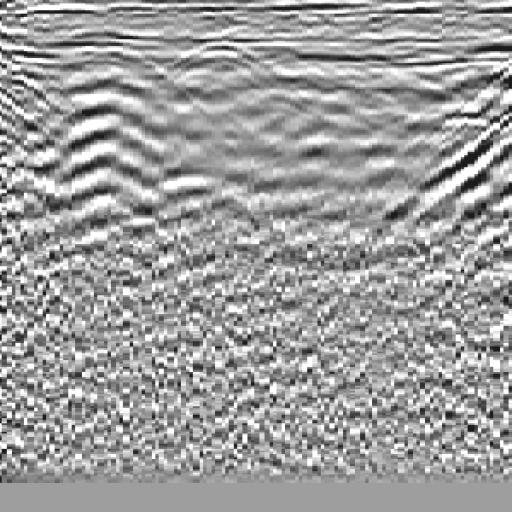metalic: (154, 31, 282, 261)
nonmetalic: (371, 37, 512, 248)
